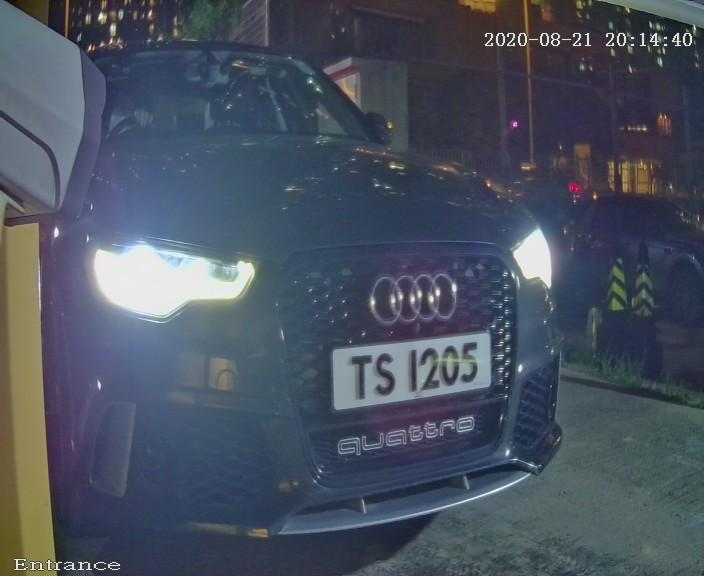Car: (1, 3, 626, 569)
License Plate: (318, 318, 503, 431)
